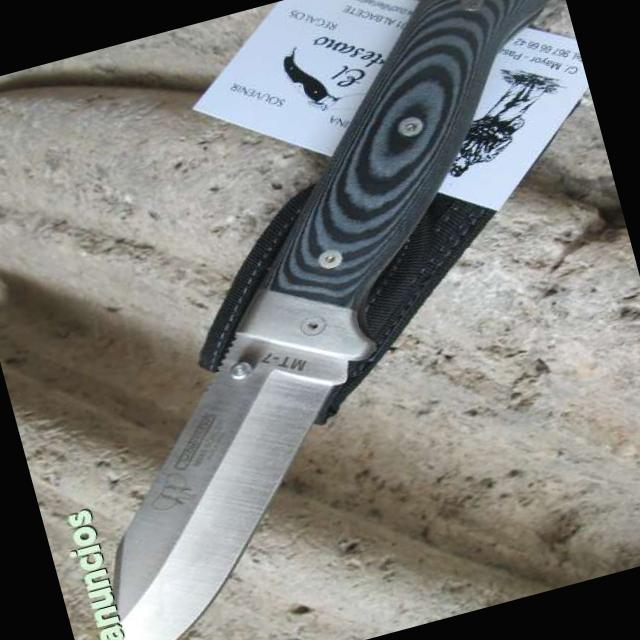knife: (0, 223, 477, 639)
